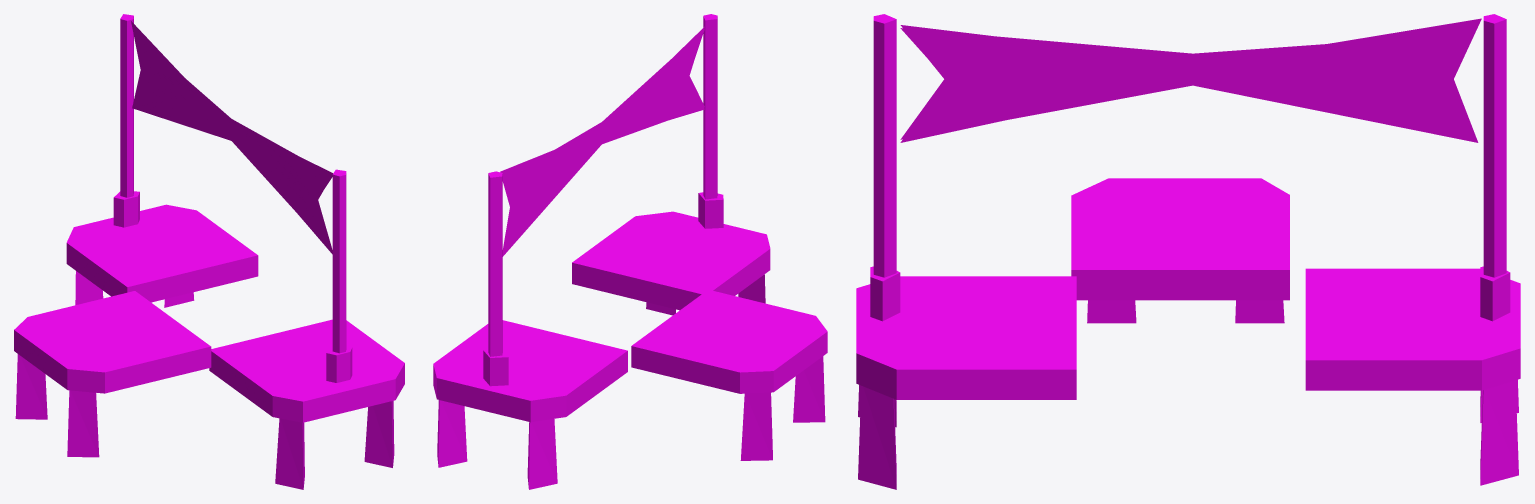
File: blurberrybar.obj
3 views of the same model, side by side, from view 1: azimuth 30°, elevation 25°; view 2: azimuth 150°, elevation 25°; view 3: azimuth 270°, elevation 25° (orthographic). The views are drawn at different scales.
Parts seen in each view (by area): view 1: blurberrybar_back; view 2: blurberrybar_back; view 3: blurberrybar_back.
Boxes of the visible parts, left/top/right/bottom form: blurberrybar_back: left=14, top=14, right=404, bottom=489; blurberrybar_back: left=433, top=14, right=827, bottom=489; blurberrybar_back: left=856, top=14, right=1520, bottom=489.
Size of the model in its own units: 2.48 by 2.69 by 3.77.
